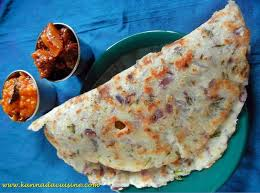rotti: (24, 11, 250, 181)
